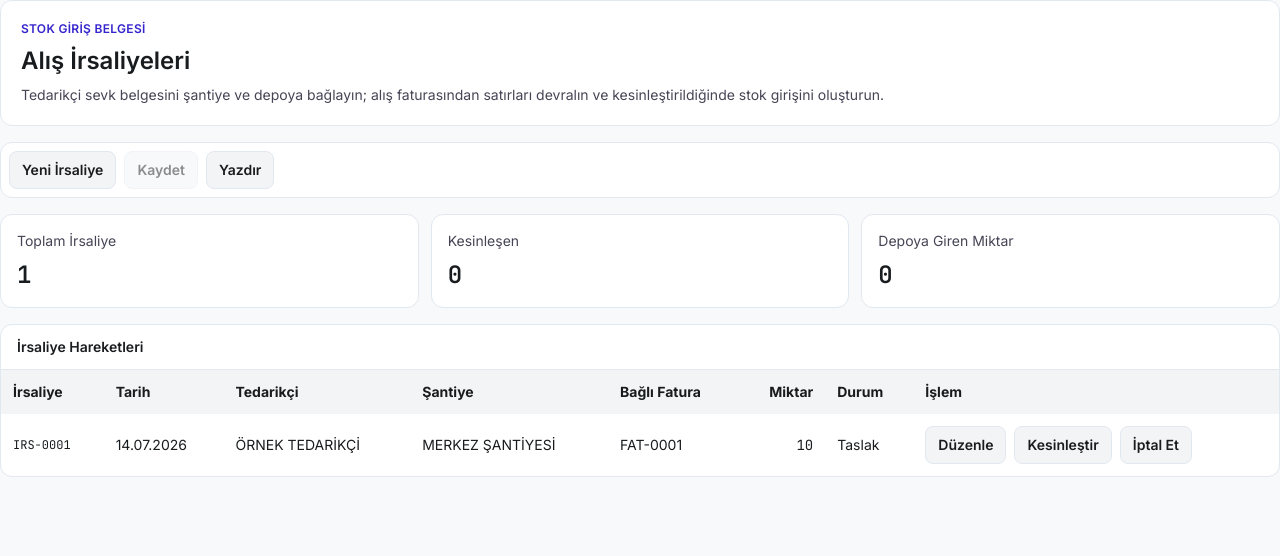
Test case: DeliveryNoteSurface › posts a draft delivery note into warehouse movement lifecycle
Click the button with aria-label "Kesinleştir IRS-0001". click: [1063, 445]
box: [1014,426,1112,464]
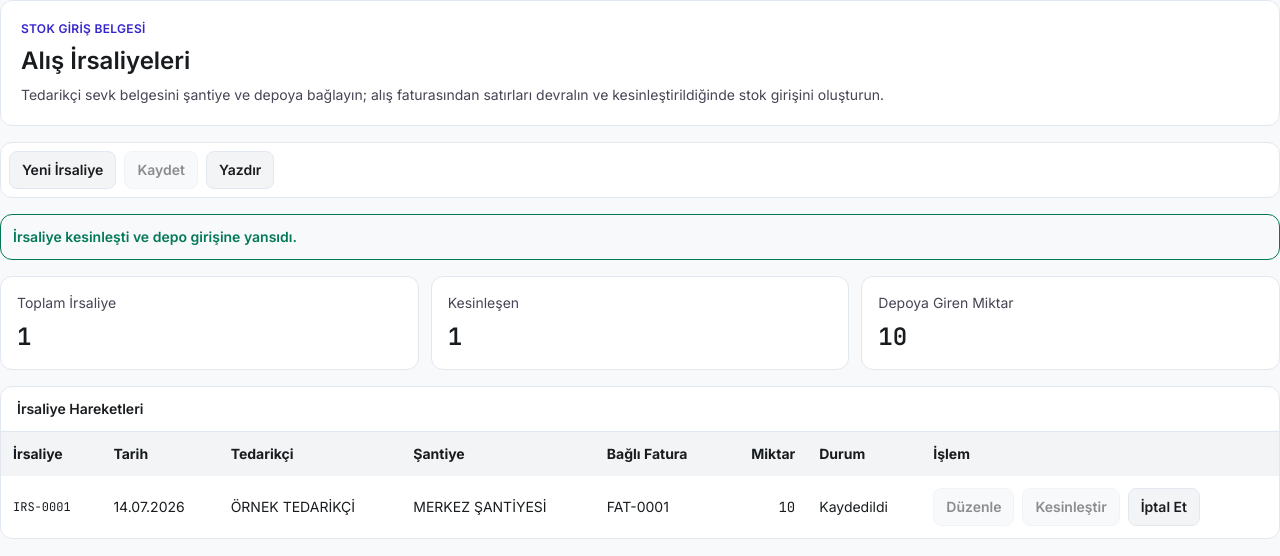
Now the text "İrsaliye kesinleşti ve depo girişine yansıdı." is shown, box [0,214,1279,260]
